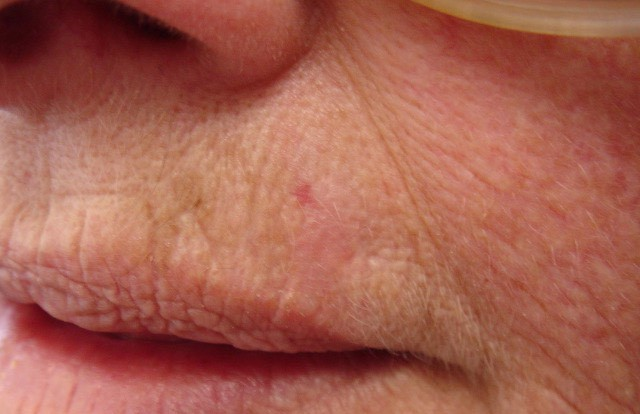Basa Cell Carcinoma: (211, 122, 400, 294)
